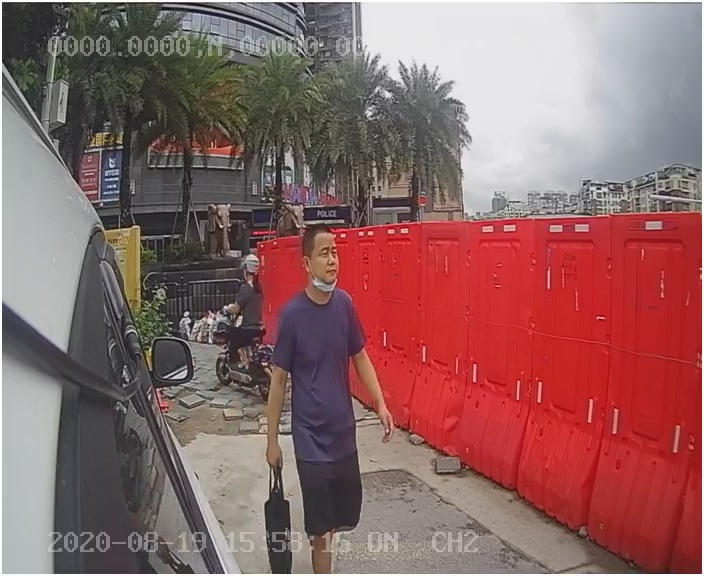person: (260, 225, 411, 528)
